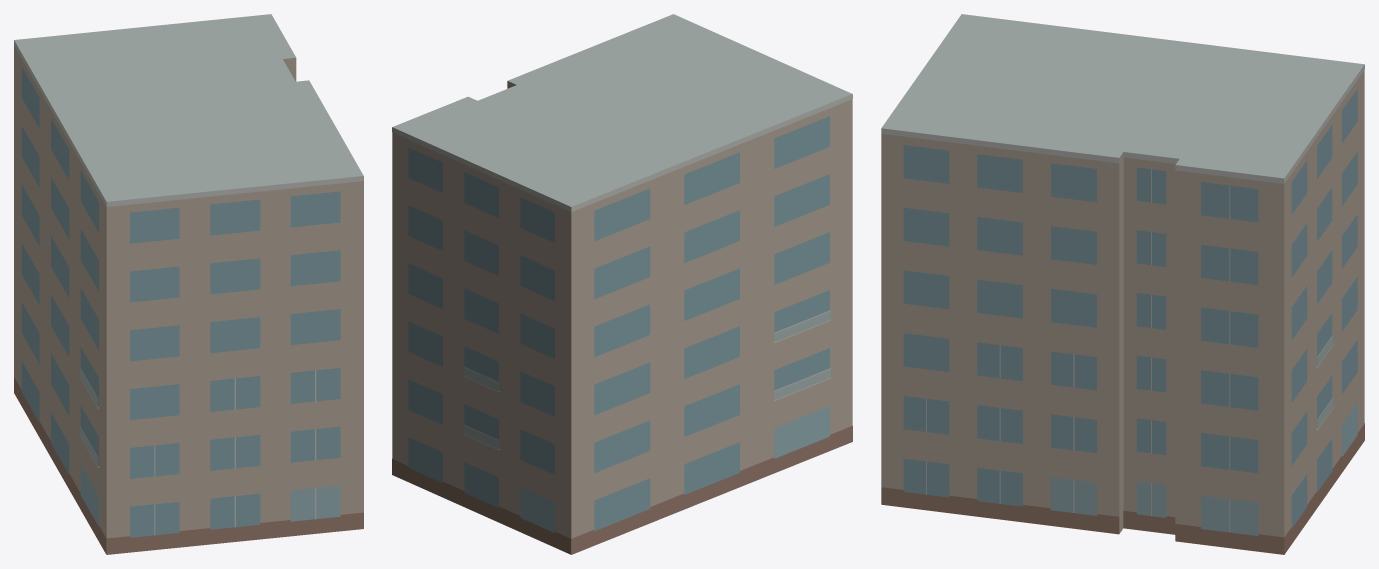
File: survey-upis-32876927.glb
3 renders of one model, left to right at view 1: azimuth 30°, elevation 25°; view 2: azimuth 150°, elevation 25°; view 3: azimuth 270°, elevation 25°, orthographic. The views are drawn at different scales.
Parts seen in each view (by area): view 1: survey-upis-32876927.tmp; view 2: survey-upis-32876927.tmp; view 3: survey-upis-32876927.tmp.
Boxes of the visible parts, x1,y1,x2,y2 form: survey-upis-32876927.tmp: (14, 14, 363, 554); survey-upis-32876927.tmp: (392, 14, 852, 554); survey-upis-32876927.tmp: (881, 14, 1364, 554).
Bounding box in the file's own units: 15.66 × 16.7 × 19.45.
